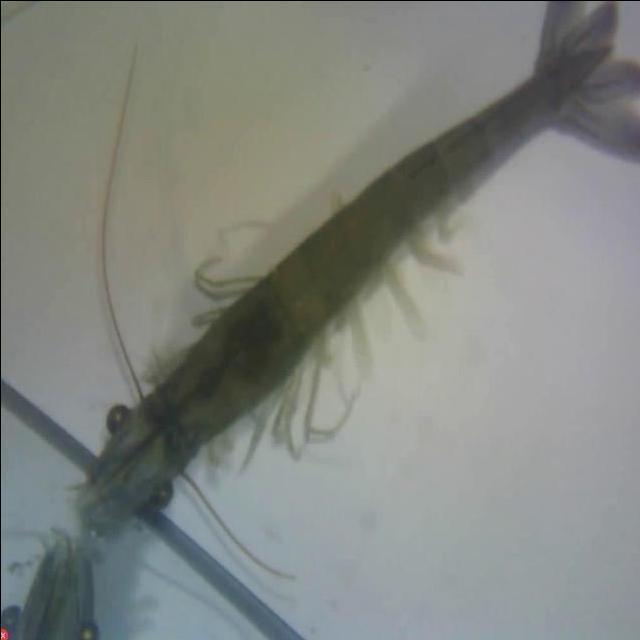shrimp: (82, 3, 640, 530)
